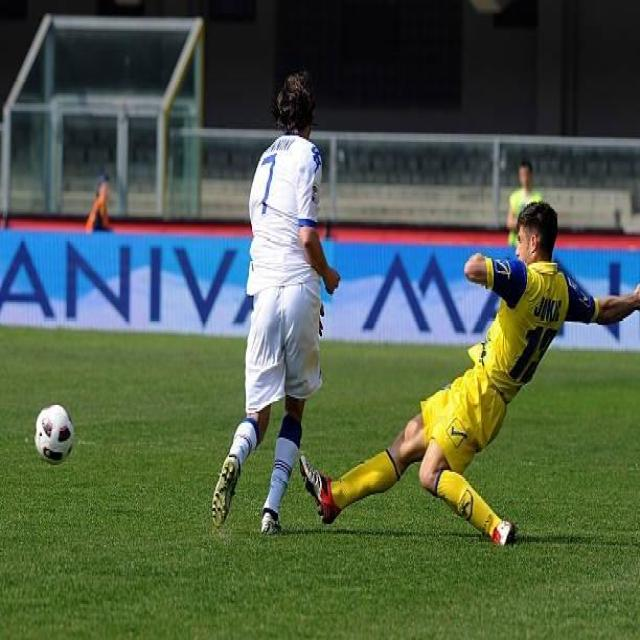ball: (31, 397, 78, 470)
player: (290, 197, 640, 546), (207, 67, 333, 552)
